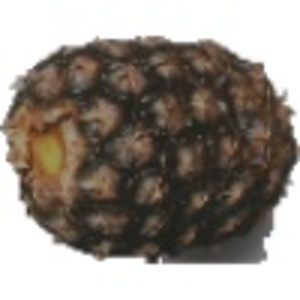abacaxi: (10, 31, 295, 260)
